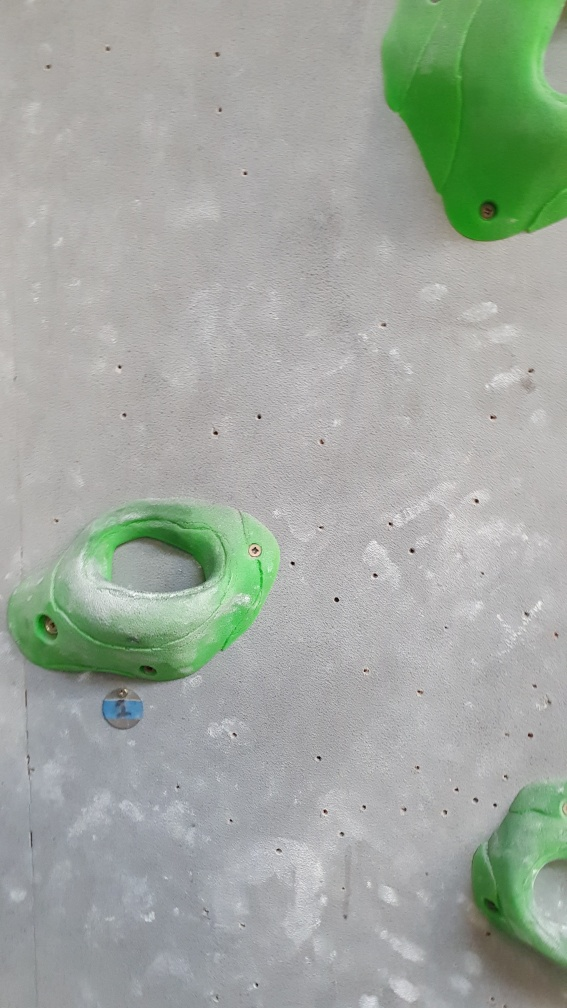Hand Start: (101, 690, 149, 729)
Pocket: (5, 491, 281, 687)
